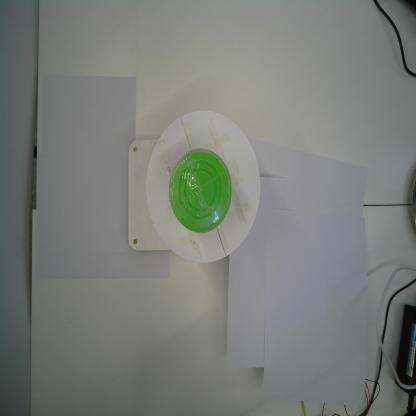Instant Drink: (167, 149, 233, 233)
